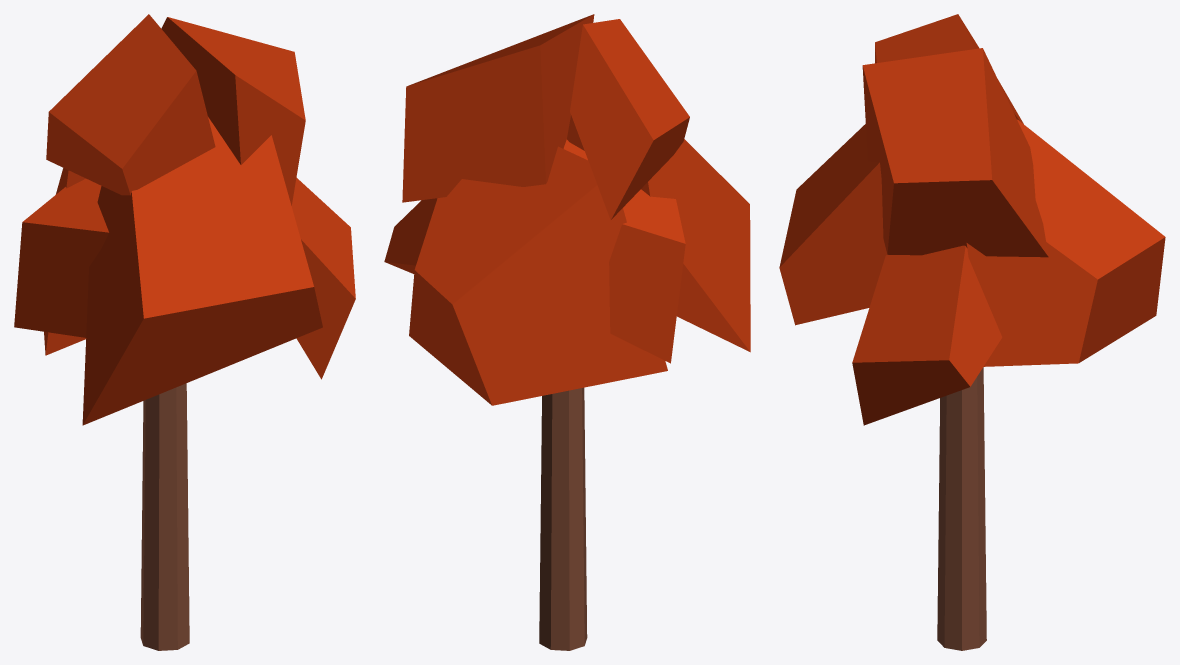
The model's file is Tree_41_summer_red_mat.fbx.
The picture shows the model from 3 angles, left to right: view 1: azimuth 30°, elevation 25°; view 2: azimuth 150°, elevation 25°; view 3: azimuth 270°, elevation 25°; orthographic projection. The views are drawn at different scales.
Parts seen in each view (by area): view 1: Tree_41_summer_red_mat; view 2: Tree_41_summer_red_mat; view 3: Tree_41_summer_red_mat.
Part boxes in pixels (x1,y1,x2,y2): Tree_41_summer_red_mat: (14,14,355,650); Tree_41_summer_red_mat: (384,14,750,650); Tree_41_summer_red_mat: (779,14,1165,650).
Bounding box in the file's own units: 120 × 229 × 130.
